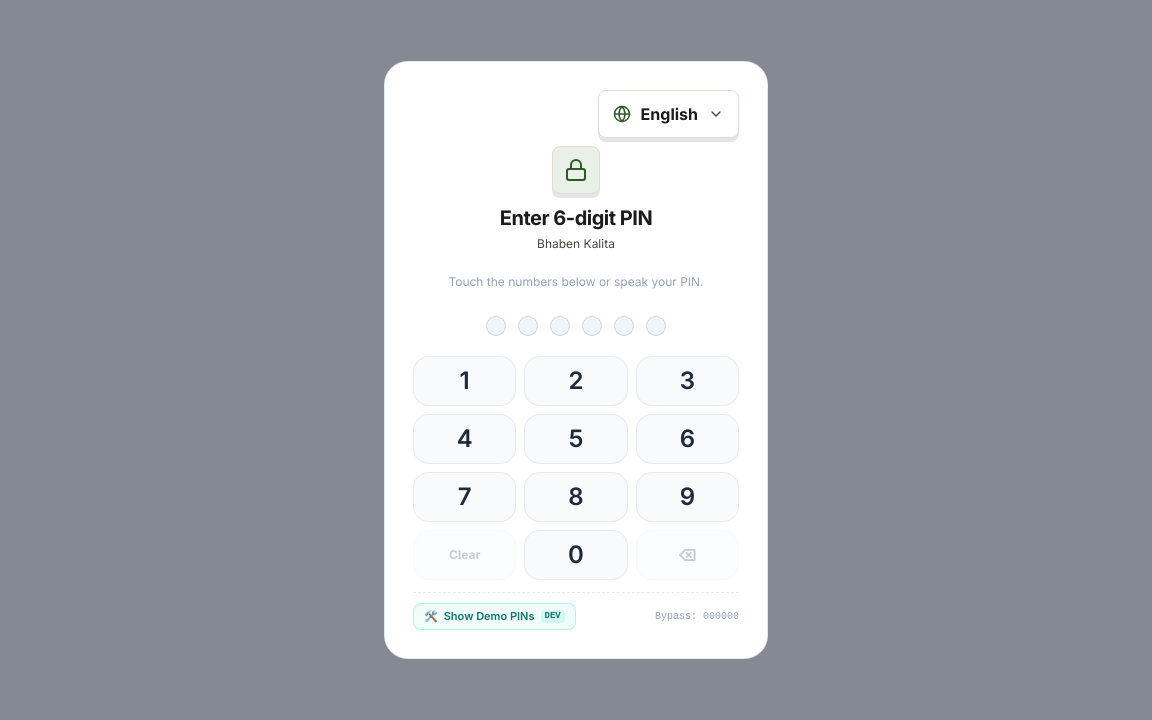
Test: Item 6: Form Validation & Inline Error States › 1. PinAuthModal displays error with role=alert and highlights dots on auth failure
What coordinates should you click on to do the following:
click the button "1"
I would click on:
 (465, 381)
Its box is [413,356,516,406].
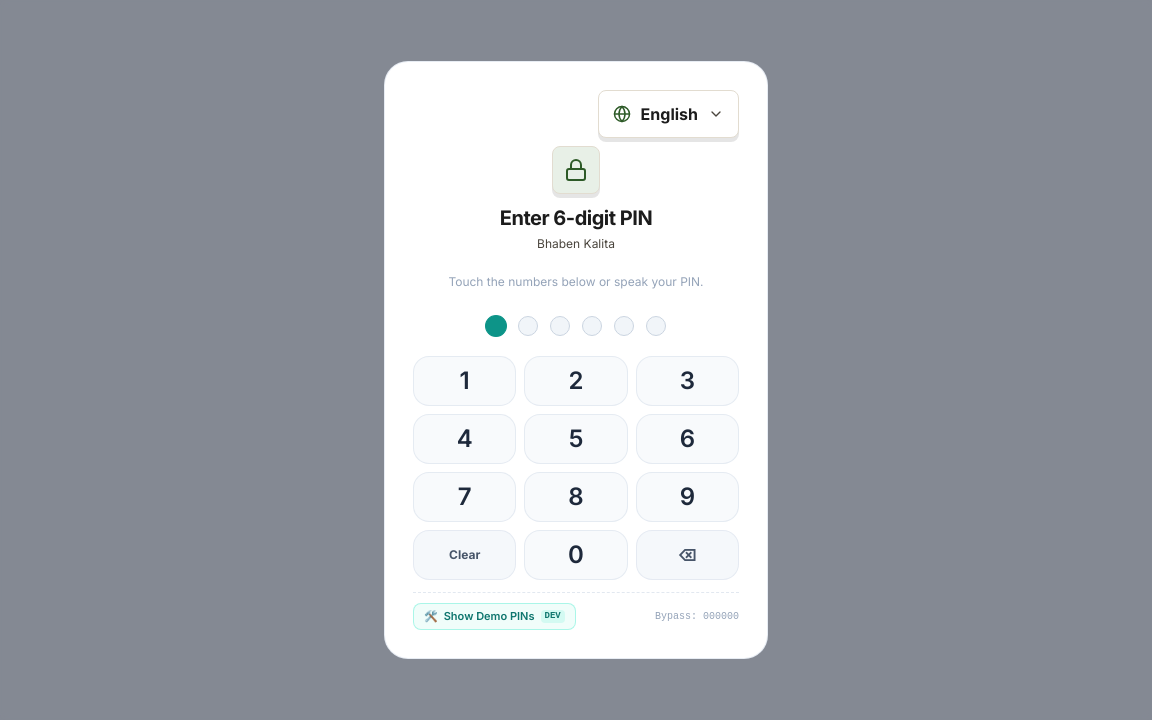
What coordinates should you click on to do the following:
click the button "2"
I would click on:
 (576, 381)
Its box is [524,356,628,406].
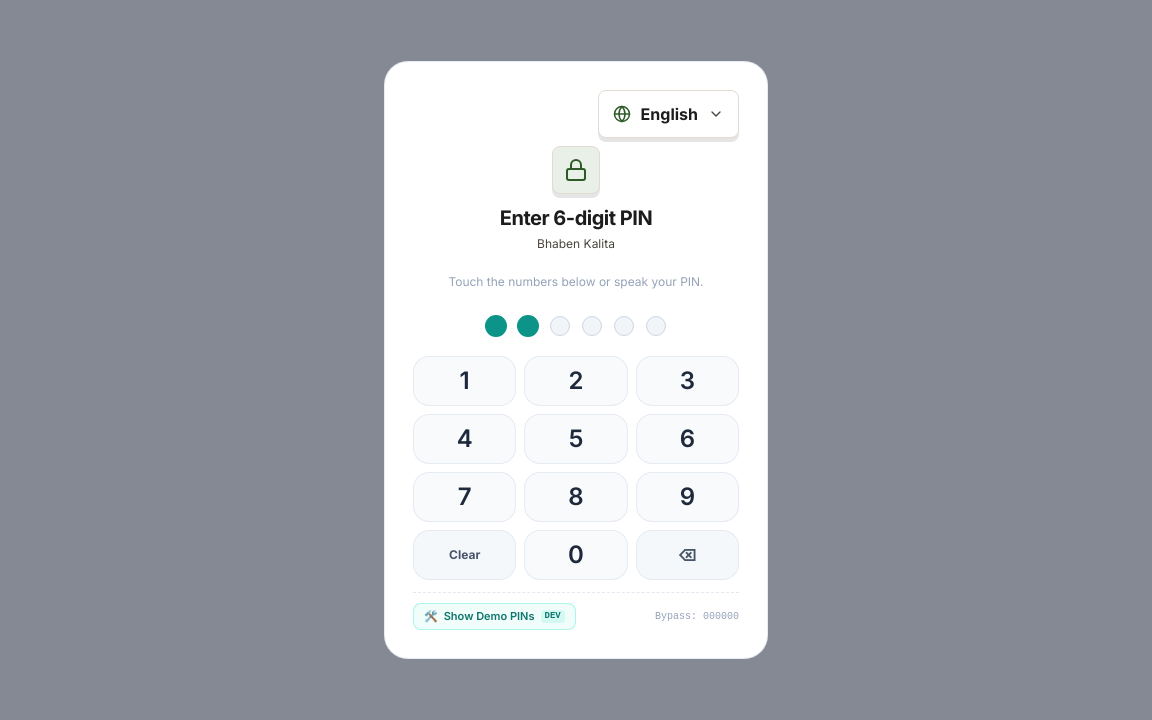
What coordinates should you click on to do the following:
click the button "3"
I would click on:
 (687, 381)
Its box is [636,356,739,406].
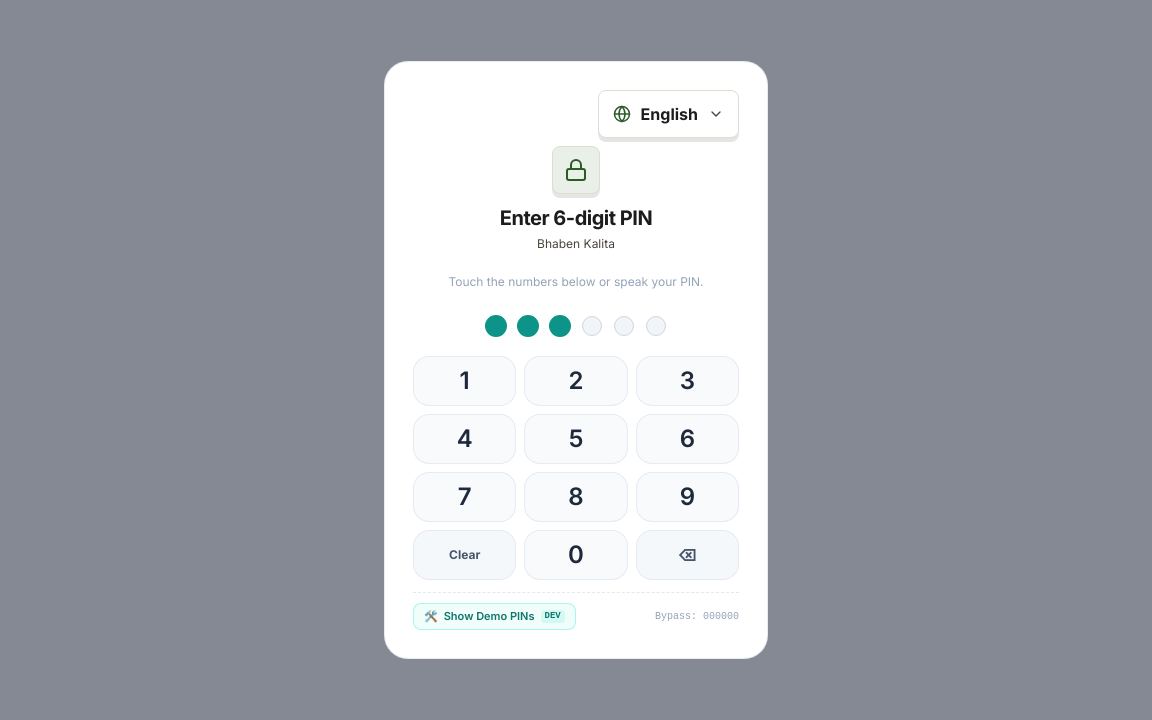
What coordinates should you click on to do the following:
click the button "4"
I would click on:
 (465, 439)
Its box is [413,414,516,464].
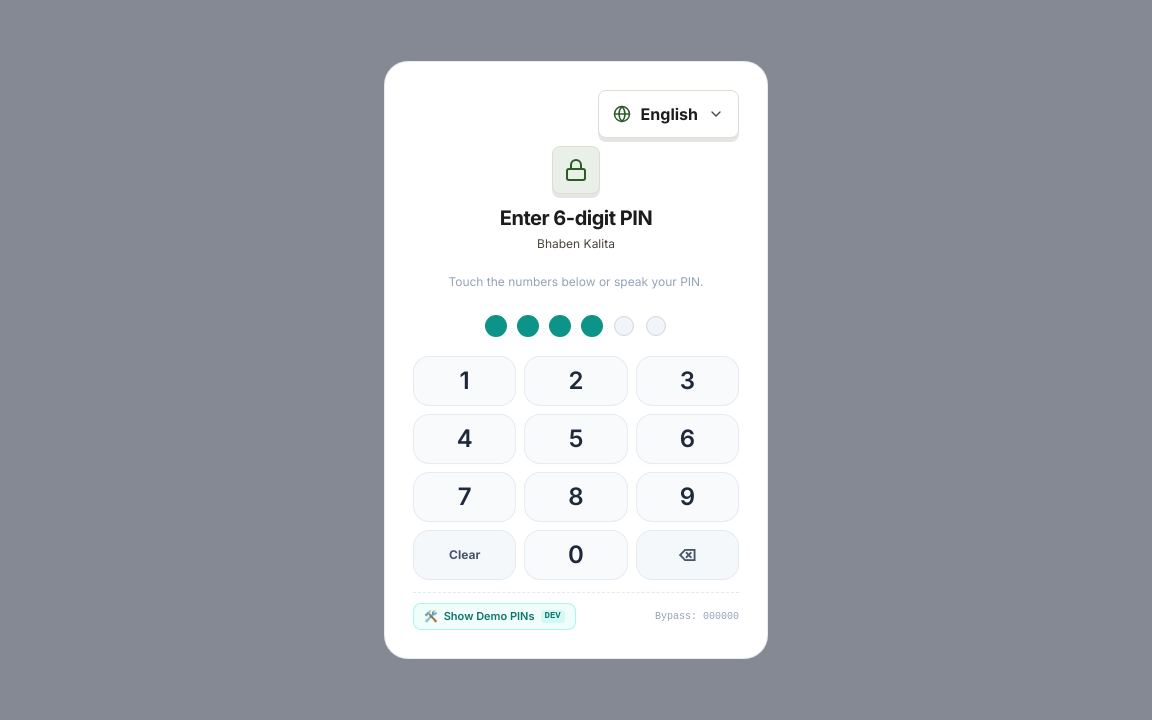
What coordinates should you click on to do the following:
click the button "5"
I would click on:
 (576, 439)
Its box is [524,414,628,464].
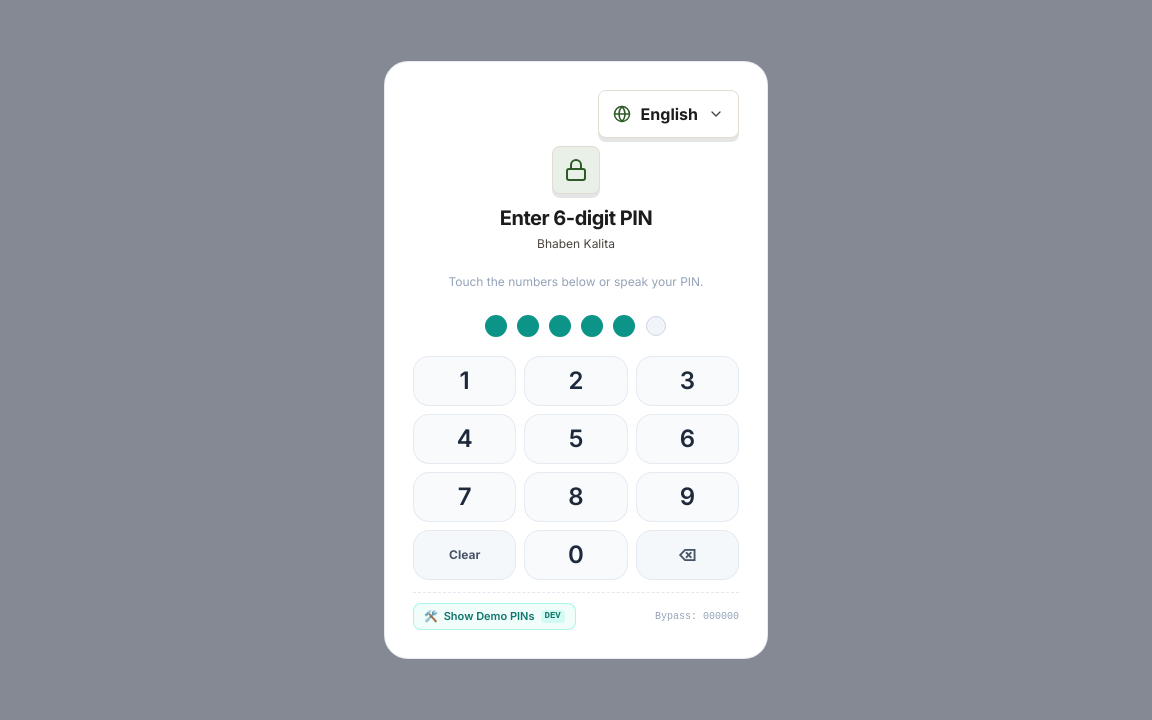
What coordinates should you click on to do the following:
click the button "6"
I would click on:
 (687, 439)
Its box is [636,414,739,464].
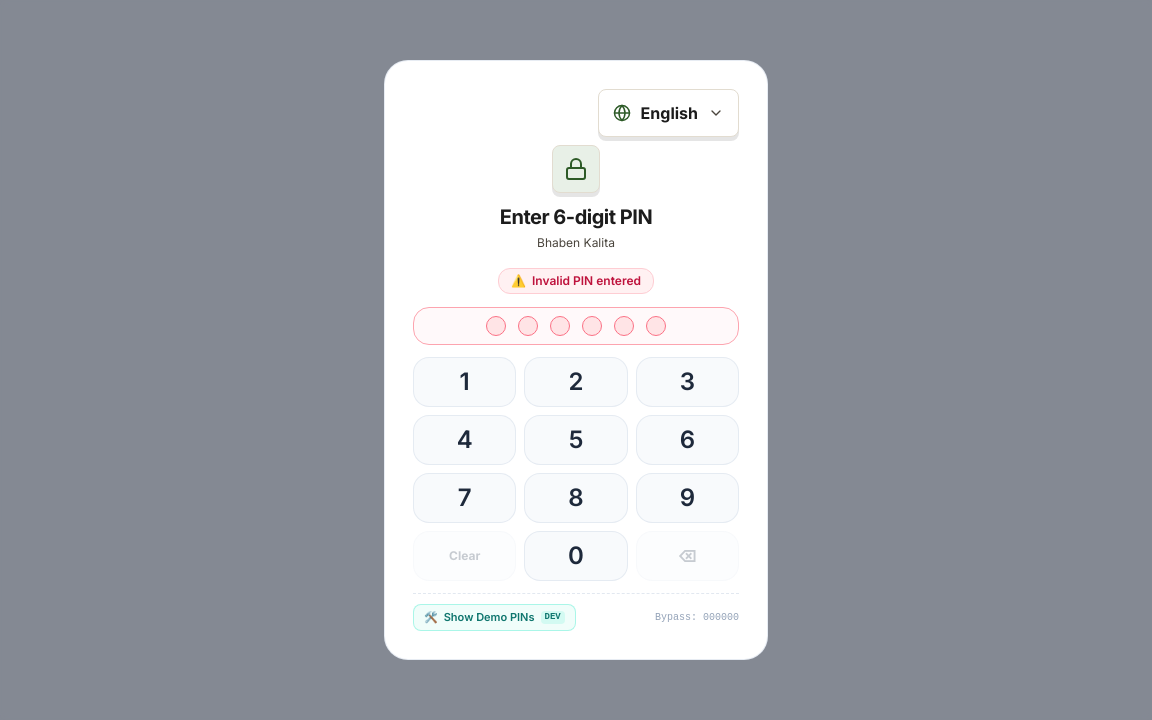
Check: the message shows "Invalid PIN entered", box [532,273,641,288]
